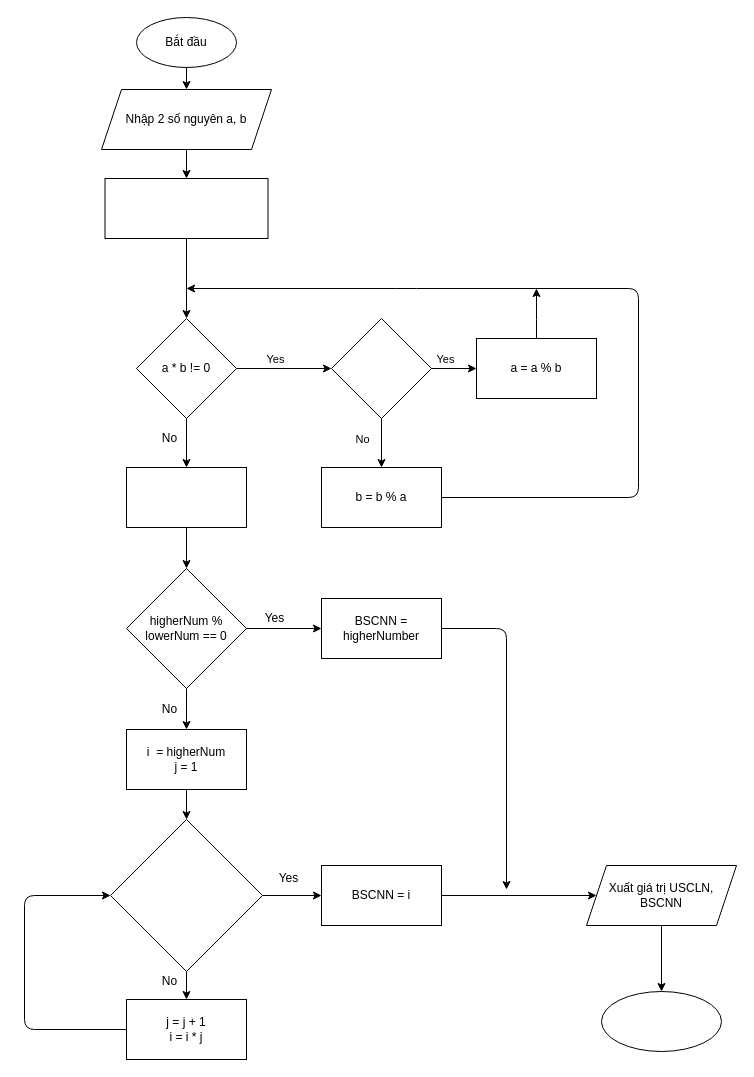
The diagram is 754 pixels wide and 1077 high, and some of its shapes have lost their labels. The shapes that lost their labels are listed below. From the top down, each one's box as (x1, y1, x2, y2) in pixels, then its label:
(104, 178, 268, 238): higherNum = max(a, b) lowerNum = min(a, b)
(330, 318, 432, 418): a > b
(126, 466, 246, 528): USCLN = a + b
(110, 818, 262, 972): i % lowerNum == 0
(600, 990, 722, 1052): Kết thúc
